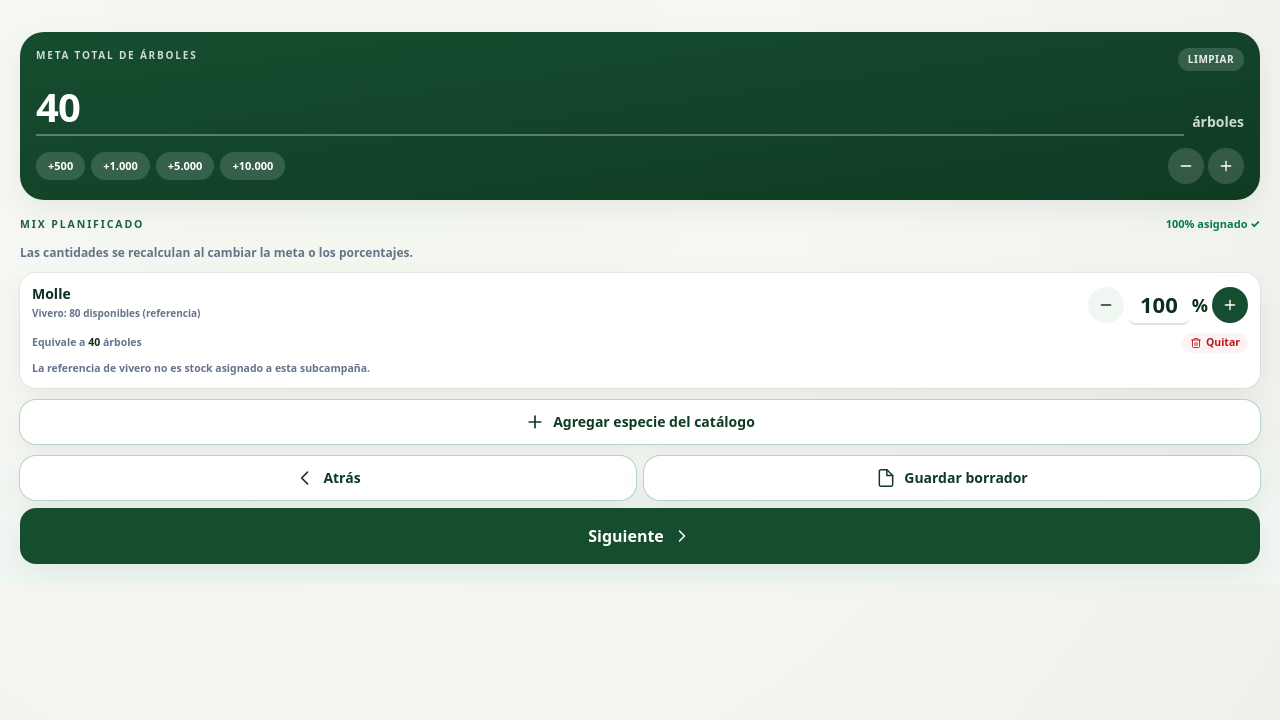
Test case: Plan coherente del asistente de subcampaña › bloquea todos los cambios remotos si el estado cambia a ACTIVA antes de guardar
Click the button "Siguiente" at {"x": 640, "y": 536}, box [20,508,1260,564]
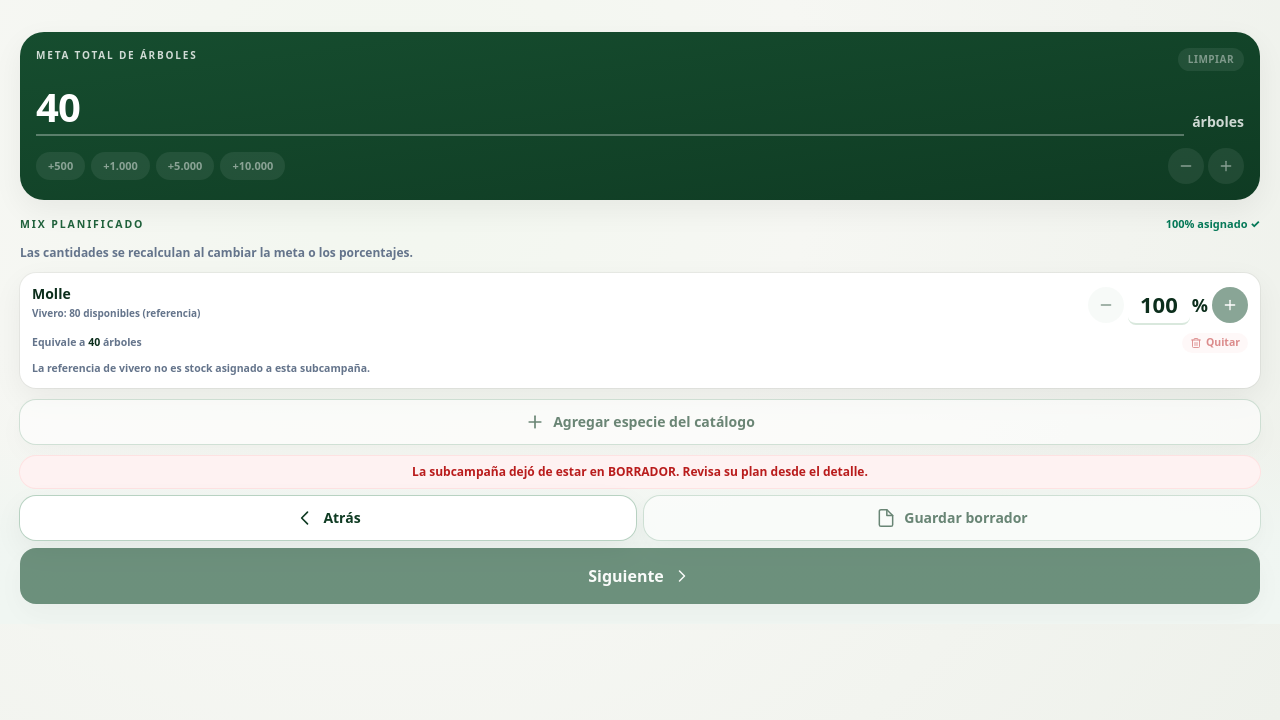
expect the text "La subcampaña dejó de estar en BORRADOR. Revisa su plan desde el detalle." is shown: met, box [20,456,1260,488]
